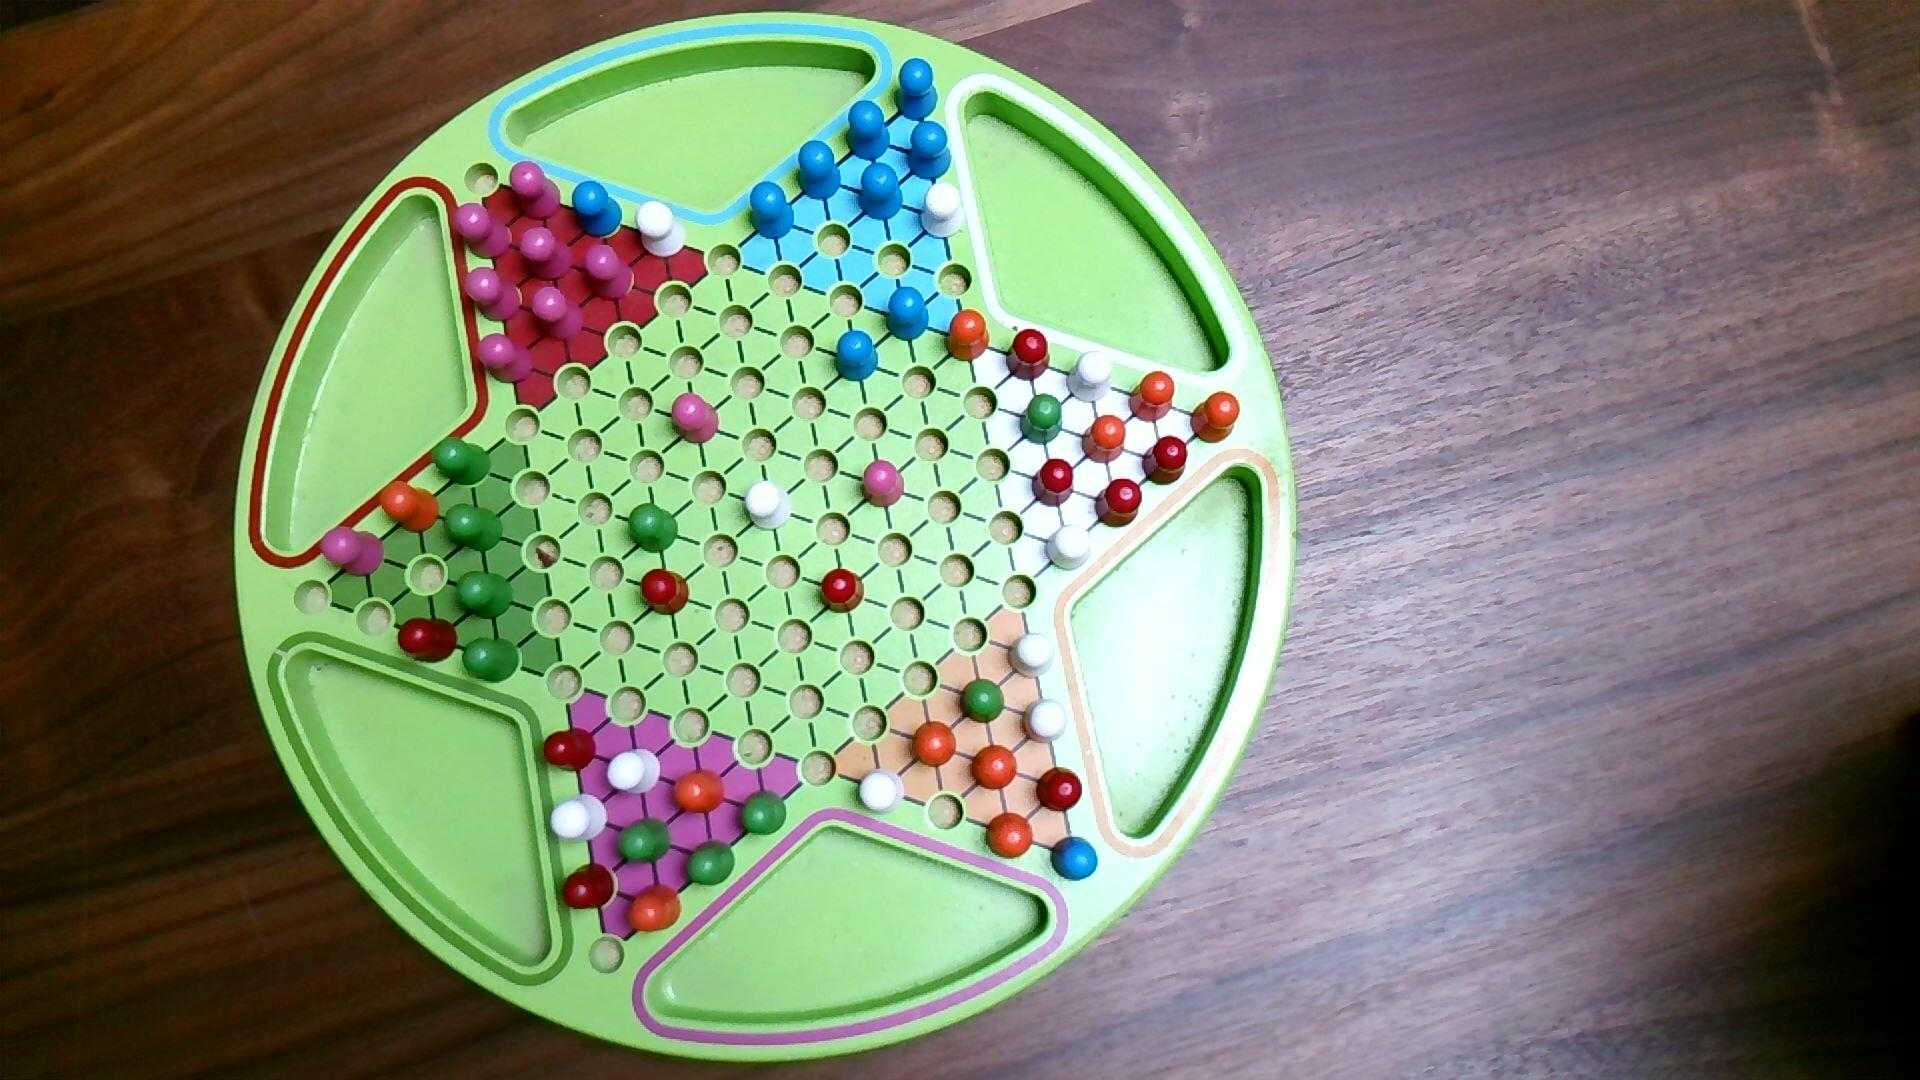B: (570, 179, 625, 240), (893, 57, 940, 124), (746, 179, 796, 243), (794, 138, 843, 203), (905, 119, 953, 183), (857, 161, 905, 223), (844, 100, 891, 162), (885, 285, 932, 343), (833, 328, 881, 385), (1048, 835, 1101, 884)
G: (452, 568, 516, 622), (429, 435, 493, 488), (442, 502, 506, 553), (460, 636, 522, 686), (615, 815, 673, 866), (626, 502, 680, 556), (683, 839, 738, 889), (1015, 392, 1065, 447), (957, 676, 1007, 727), (738, 789, 789, 837)
O: (377, 479, 442, 537), (625, 881, 684, 935), (1189, 389, 1244, 444), (942, 307, 992, 364), (670, 767, 728, 816), (1127, 369, 1176, 425), (985, 811, 1035, 862), (971, 742, 1021, 793), (910, 719, 959, 770), (1081, 414, 1127, 465)
R: (396, 616, 460, 665), (560, 861, 618, 913), (640, 564, 691, 618), (1093, 476, 1145, 530), (1004, 327, 1052, 382), (1141, 434, 1189, 489), (541, 727, 597, 774), (1035, 765, 1085, 815), (818, 566, 866, 616), (1030, 458, 1076, 509)
R2: (318, 524, 386, 579), (452, 200, 513, 261), (506, 160, 564, 223), (462, 266, 524, 324), (473, 331, 537, 386), (518, 225, 576, 284), (529, 285, 585, 343), (583, 243, 636, 305), (670, 392, 721, 447), (858, 458, 907, 512)
W: (634, 199, 688, 260), (549, 793, 611, 844), (604, 746, 665, 796), (918, 181, 967, 243), (1065, 349, 1116, 405), (1006, 630, 1058, 682), (855, 767, 907, 818), (744, 480, 794, 533), (1044, 524, 1093, 574), (1021, 698, 1069, 746)
